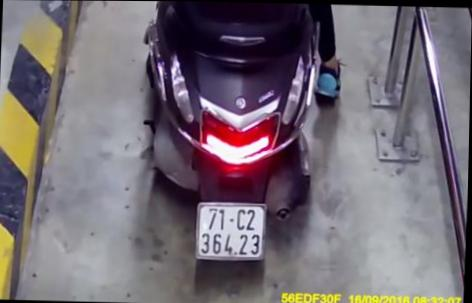LP: (194, 200, 270, 263)
